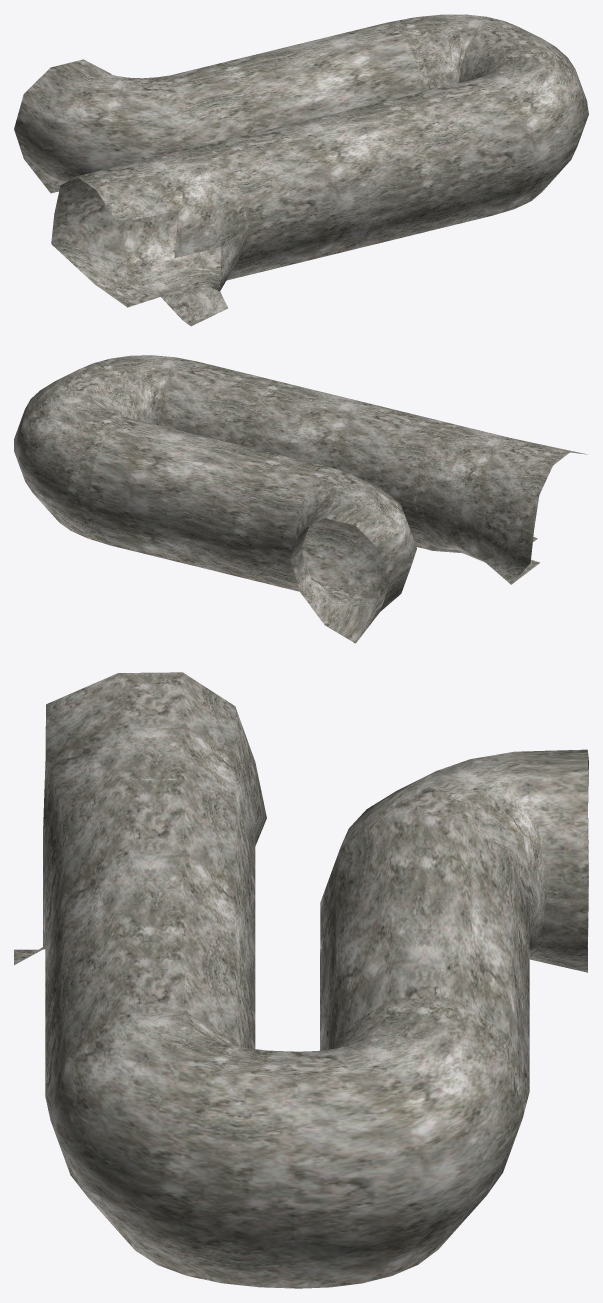
File: DWARF_PALACE_MAINHALL_ARKENSTONE_CAVE.fbx
The picture shows the model from 3 angles, top to bottom: view 1: azimuth 30°, elevation 25°; view 2: azimuth 150°, elevation 25°; view 3: azimuth 270°, elevation 25°; orthographic projection. The views are drawn at different scales.
Visible parts, largest first — view 1: DWARF_PALACE_MAINHALL_ARKENSTONE_CAVE; view 2: DWARF_PALACE_MAINHALL_ARKENSTONE_CAVE; view 3: DWARF_PALACE_MAINHALL_ARKENSTONE_CAVE.
Boxes of the visible parts, bbox=[...] form: DWARF_PALACE_MAINHALL_ARKENSTONE_CAVE: bbox=[14, 14, 588, 326]; DWARF_PALACE_MAINHALL_ARKENSTONE_CAVE: bbox=[14, 355, 587, 643]; DWARF_PALACE_MAINHALL_ARKENSTONE_CAVE: bbox=[14, 672, 588, 1288].
Size of the model in its own units: 494056 by 116982 by 273857.
1 material, 1 textured.
